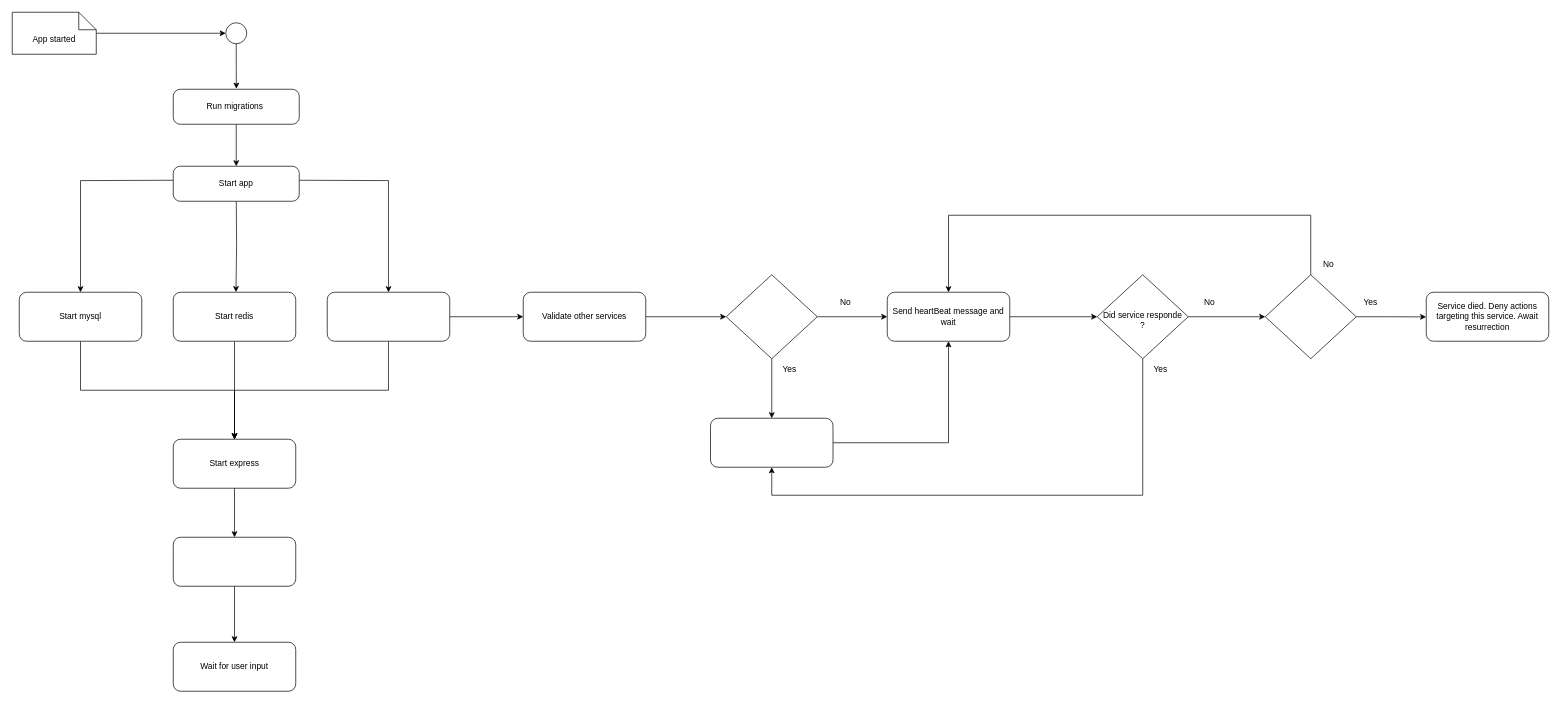
Some shapes in this 1561 by 704 pixel diagram are drawn without their labels. Here are the shapes that lost their labels. From the top down, the centre of each, then its label:
At pixel 388 316: "Start rabbit".
At pixel 771 316: "Is service alive ?".
At pixel 1310 316: "Did heartBeat failed 10 times ?".
At pixel 771 442: "SetTimeout 5000 to revalidate".
At pixel 234 561: "Start websocket".
